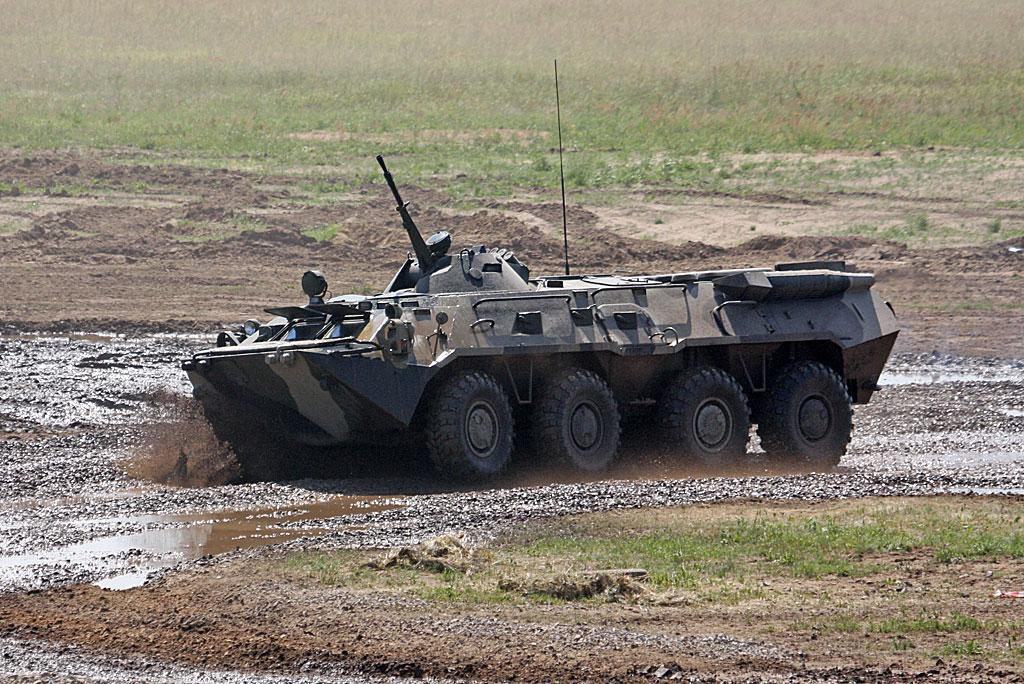tank: (179, 153, 902, 487)
